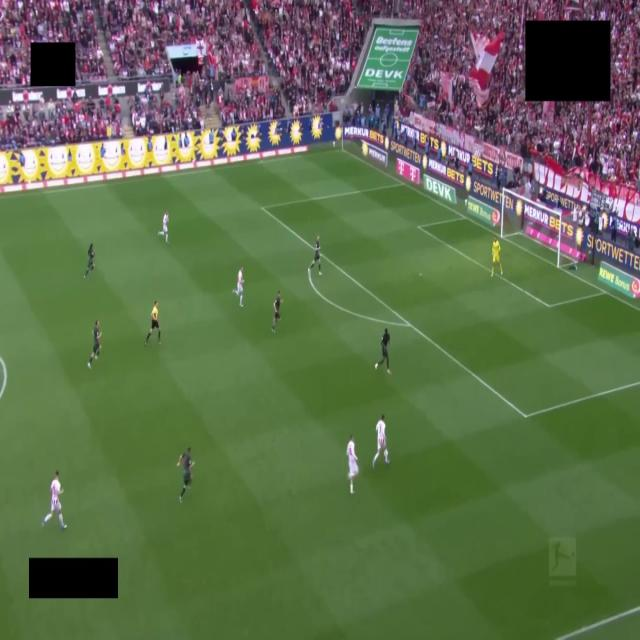player: (42, 471, 66, 530), (177, 448, 194, 503), (373, 414, 389, 467), (375, 328, 391, 375), (347, 435, 358, 494), (88, 320, 101, 368), (309, 237, 321, 275), (491, 237, 502, 275), (233, 267, 243, 307), (272, 291, 281, 332), (84, 243, 94, 278), (158, 211, 168, 242)
referee: (145, 301, 161, 345)
